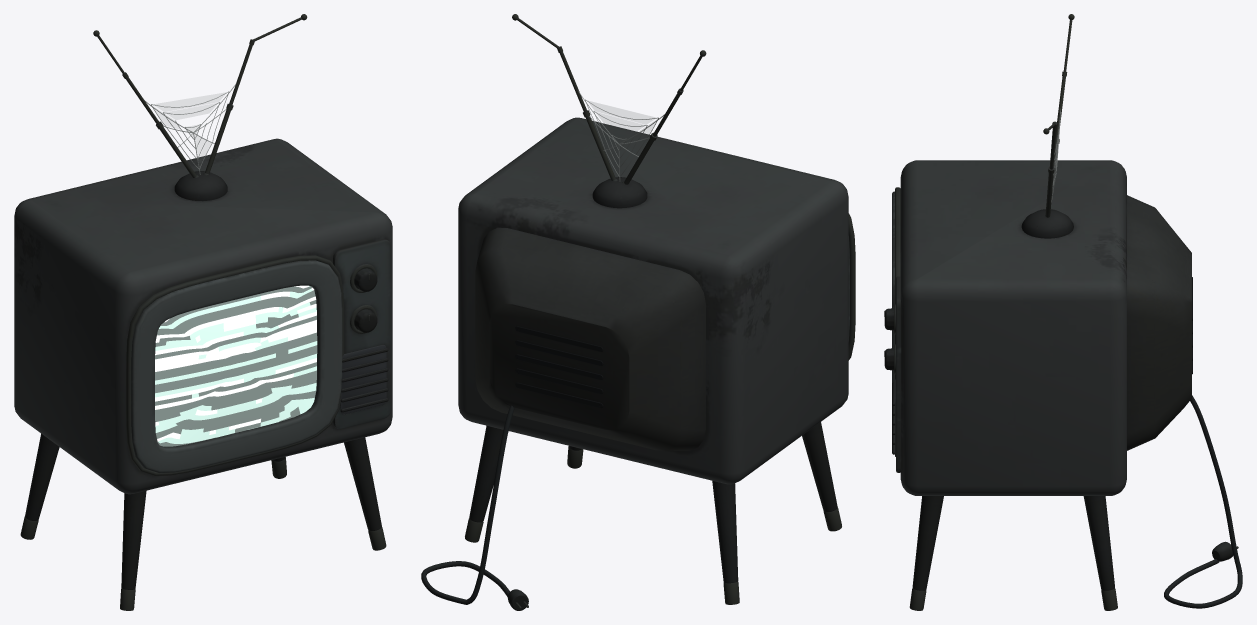
File: old-crt-tv.glb
The picture shows the model from 3 angles, left to right: view 1: azimuth 30°, elevation 25°; view 2: azimuth 150°, elevation 25°; view 3: azimuth 270°, elevation 25°; orthographic projection. The views are drawn at different scales.
Parts seen in each view (by area): view 1: old-crt-tv_body, old-crt-tv_screen_glow, old-crt-tv_web; view 2: old-crt-tv_body, old-crt-tv_web; view 3: old-crt-tv_body.
Boxes of the visible parts, <box> form: old-crt-tv_body: <box>14,14,392,610</box>; old-crt-tv_screen_glow: <box>155,285,317,446</box>; old-crt-tv_web: <box>144,84,235,174</box>; old-crt-tv_body: <box>421,14,855,610</box>; old-crt-tv_web: <box>578,91,664,181</box>; old-crt-tv_body: <box>884,14,1242,610</box>.
Bounding box in the file's own units: 0.55 × 0.9724 × 0.6333.
Materials: 6 (1 with a texture image).
